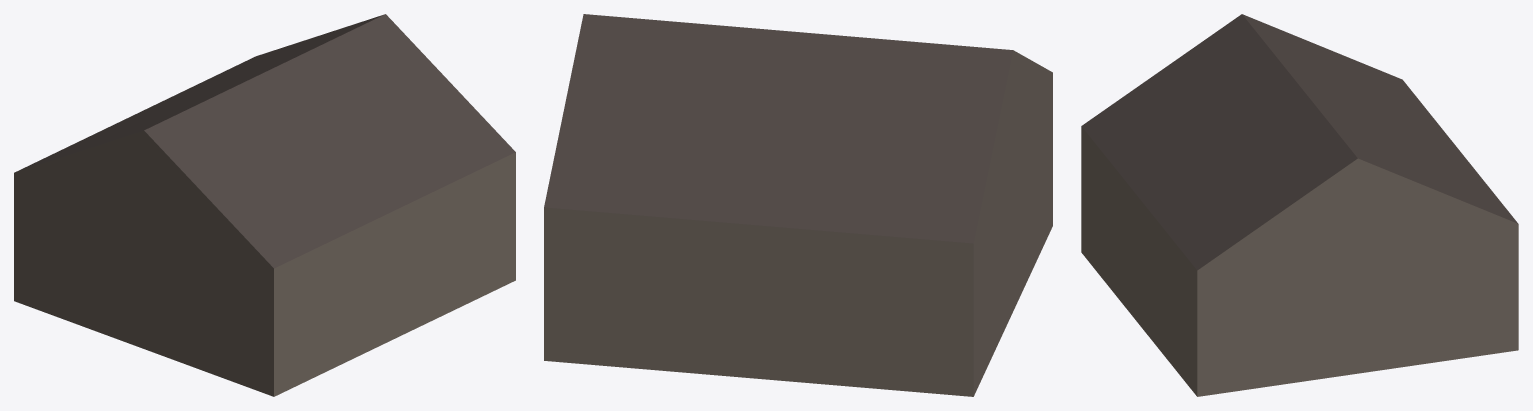
3 renders of one model, left to right at view 1: azimuth 30°, elevation 25°; view 2: azimuth 150°, elevation 25°; view 3: azimuth 270°, elevation 25°, orthographic. The views are drawn at different scales.
Parts seen in each view (by area): view 1: HP-w859457312; view 2: HP-w859457312; view 3: HP-w859457312.
Part boxes in pixels (bbox=[...]): HP-w859457312: bbox=[14, 14, 515, 396]; HP-w859457312: bbox=[544, 14, 1052, 396]; HP-w859457312: bbox=[1081, 14, 1518, 396].
Size of the model in its own units: 19.45 by 10.22 by 18.82.
